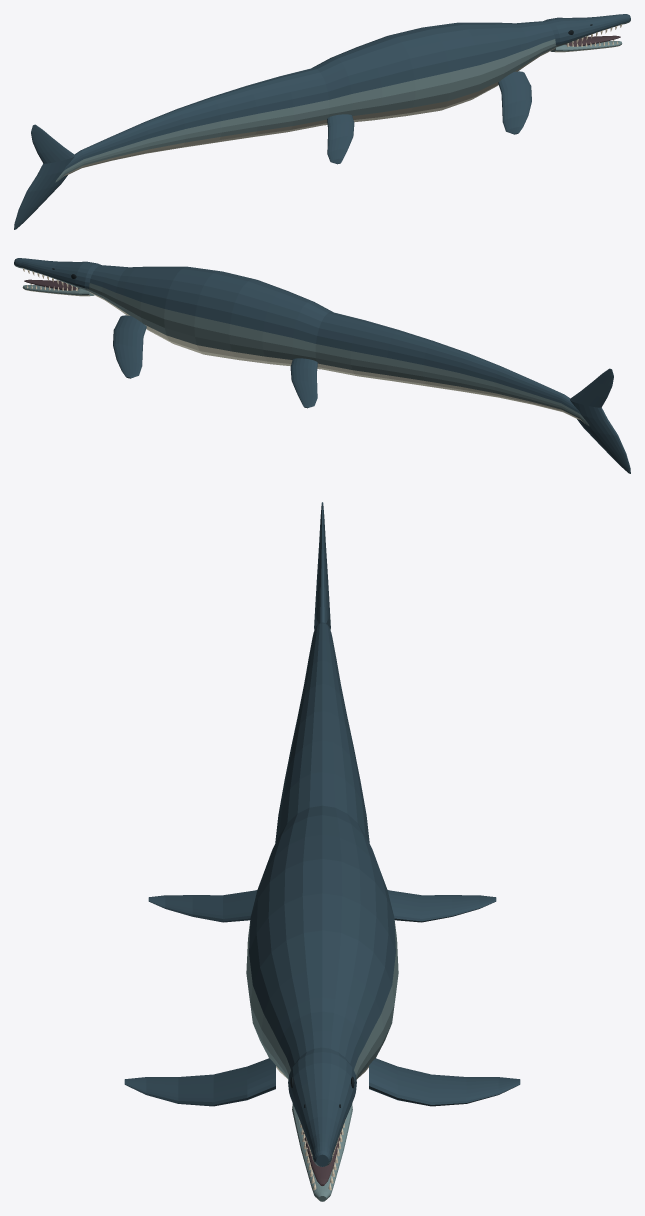
3 renders of one model, top to bottom at view 1: azimuth 30°, elevation 25°; view 2: azimuth 150°, elevation 25°; view 3: azimuth 270°, elevation 25°, orthographic. The views are drawn at different scales.
Visible parts, largest first — view 1: Robust_trunk_and_compressed_tail, Restrained_vertical_hypocercal_fin, Forepaddle_near, Long_upper_skull_with_blunt_edentulous_rostrum, Hindpaddle_near, Open_lower_jaw_with_tooth_free_symphyseal_tip, Recessed_mouth_interior; view 2: Robust_trunk_and_compressed_tail, Restrained_vertical_hypocercal_fin, Forepaddle_far, Long_upper_skull_with_blunt_edentulous_rostrum, Hindpaddle_far, Open_lower_jaw_with_tooth_free_symphyseal_tip, Recessed_mouth_interior; view 3: Robust_trunk_and_compressed_tail, Long_upper_skull_with_blunt_edentulous_rostrum, Forepaddle_far, Forepaddle_near, Hindpaddle_far, Hindpaddle_near, Restrained_vertical_hypocercal_fin, Open_lower_jaw_with_tooth_free_symphyseal_tip.
Boxes of the visible parts, bbox=[...] form: Robust_trunk_and_compressed_tail: bbox=[55, 21, 557, 182]; Restrained_vertical_hypocercal_fin: bbox=[14, 124, 74, 229]; Forepaddle_near: bbox=[498, 71, 531, 134]; Long_upper_skull_with_blunt_edentulous_rostrum: bbox=[544, 14, 630, 46]; Hindpaddle_near: bbox=[327, 114, 354, 164]; Open_lower_jaw_with_tooth_free_symphyseal_tip: bbox=[550, 41, 622, 52]; Recessed_mouth_interior: bbox=[565, 35, 620, 46]; Robust_trunk_and_compressed_tail: bbox=[87, 265, 589, 426]; Restrained_vertical_hypocercal_fin: bbox=[570, 368, 630, 473]; Forepaddle_far: bbox=[113, 315, 146, 378]; Long_upper_skull_with_blunt_edentulous_rostrum: bbox=[14, 258, 100, 290]; Hindpaddle_far: bbox=[290, 358, 317, 408]; Open_lower_jaw_with_tooth_free_symphyseal_tip: bbox=[22, 285, 94, 296]; Recessed_mouth_interior: bbox=[24, 279, 79, 290]; Robust_trunk_and_compressed_tail: bbox=[246, 622, 398, 1079]; Long_upper_skull_with_blunt_edentulous_rostrum: bbox=[288, 1047, 356, 1166]; Forepaddle_far: bbox=[369, 1058, 520, 1106]; Forepaddle_near: bbox=[124, 1058, 275, 1106]; Hindpaddle_far: bbox=[387, 890, 496, 922]; Hindpaddle_near: bbox=[148, 890, 257, 922]; Restrained_vertical_hypocercal_fin: bbox=[314, 502, 330, 629]; Open_lower_jaw_with_tooth_free_symphyseal_tip: bbox=[292, 1104, 352, 1201].
Size of the model in its own units: 8.87 by 1.38 by 2.47.
